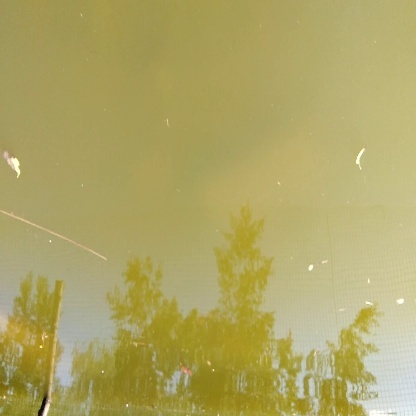branch: (2, 202, 112, 268)
